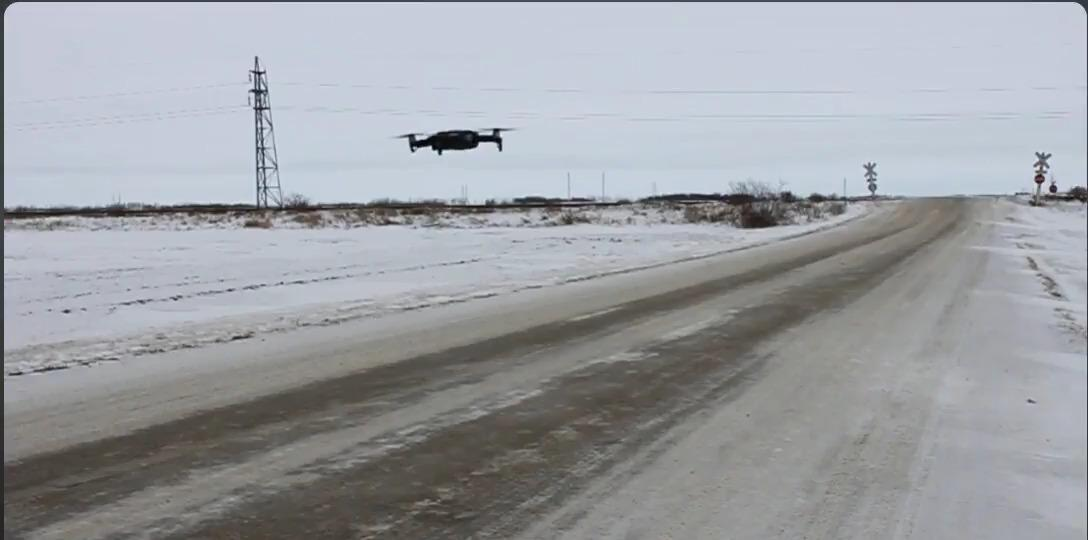dr: (374, 90, 571, 173)
